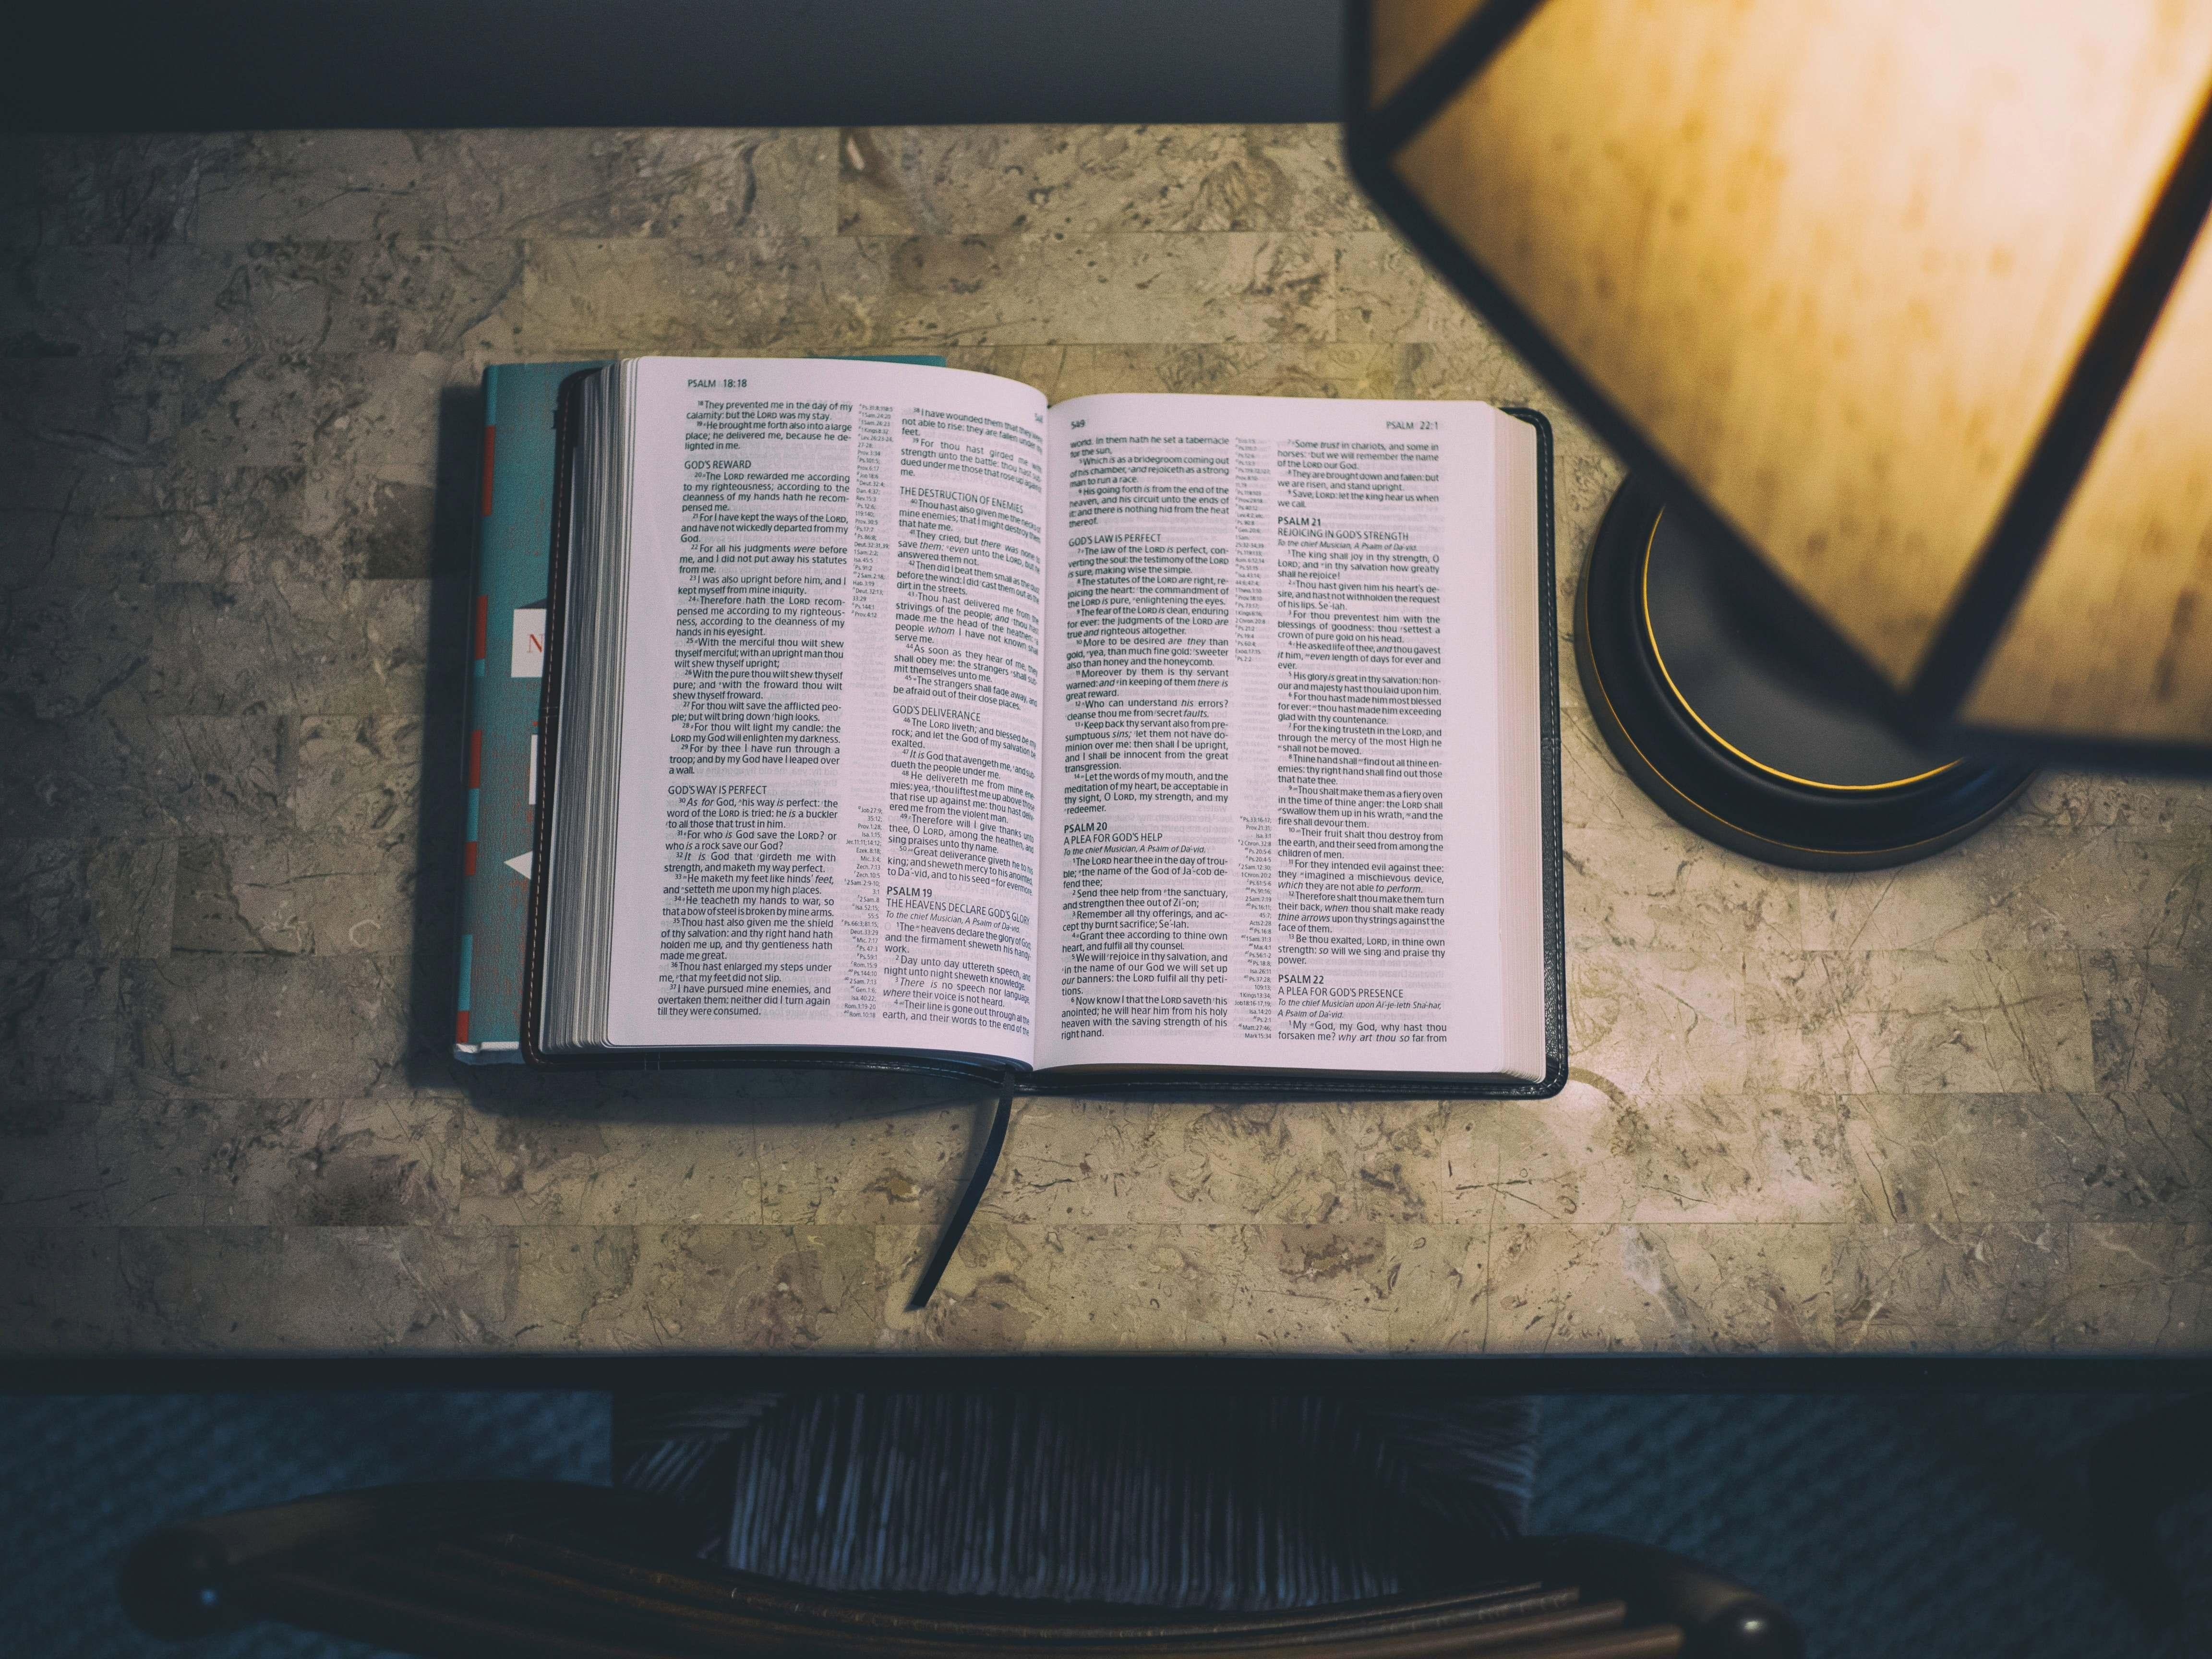book: (404, 317, 1575, 1124)
